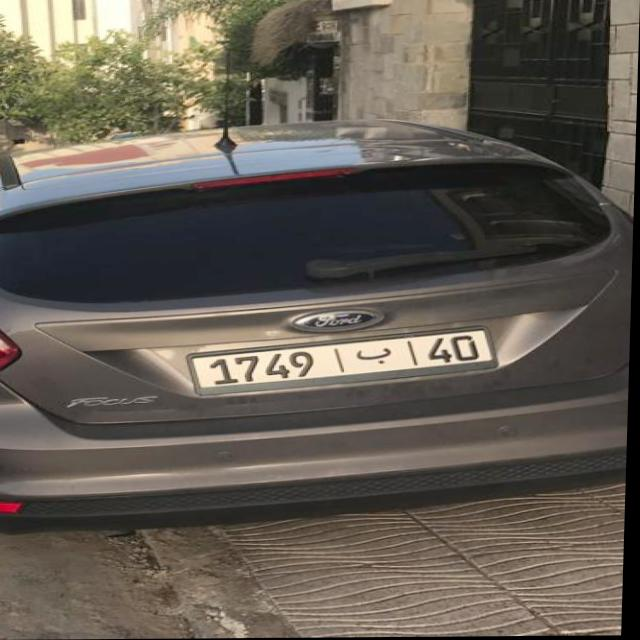License-Plate: (192, 330, 498, 395)
